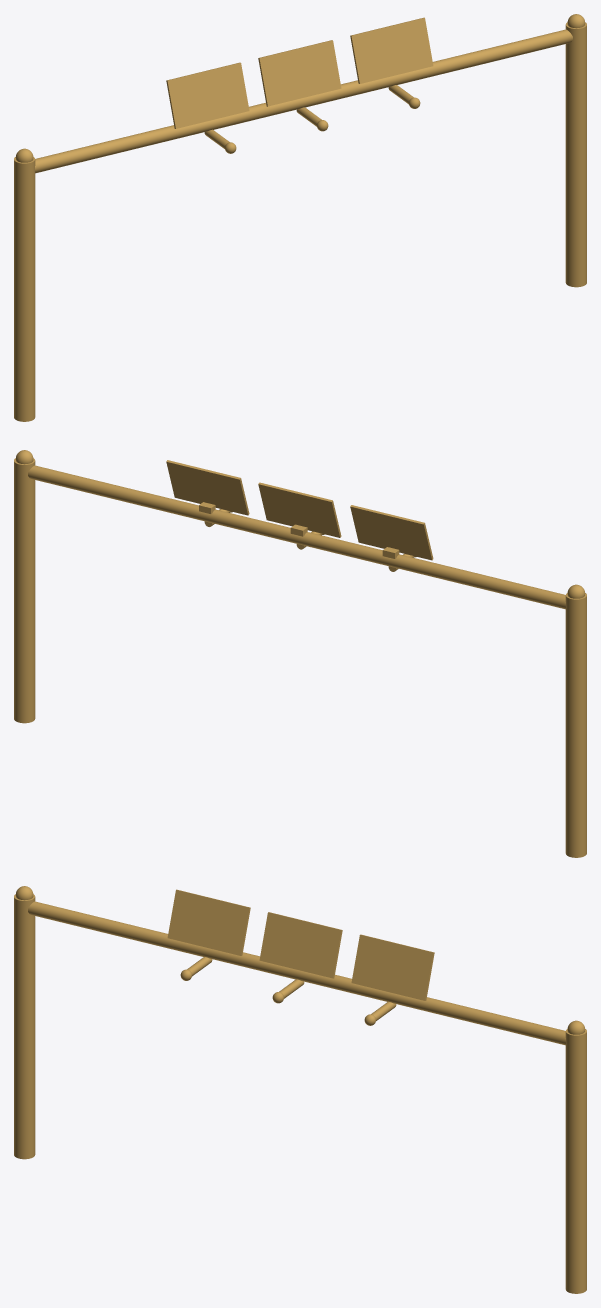
Rendered from frame.glb.
3 views of the same model, one above another, from view 1: azimuth 30°, elevation 25°; view 2: azimuth 150°, elevation 25°; view 3: azimuth 330°, elevation 25° (orthographic).
Parts seen in each view (by area): view 1: frame; view 2: frame; view 3: frame.
Boxes of the visible parts, box(x1,y1,x2,y2) form: frame: box(14, 14, 586, 421); frame: box(14, 450, 586, 857); frame: box(14, 886, 586, 1293).
Size of the model in its own units: 0.744 by 0.3713 by 0.0689.
